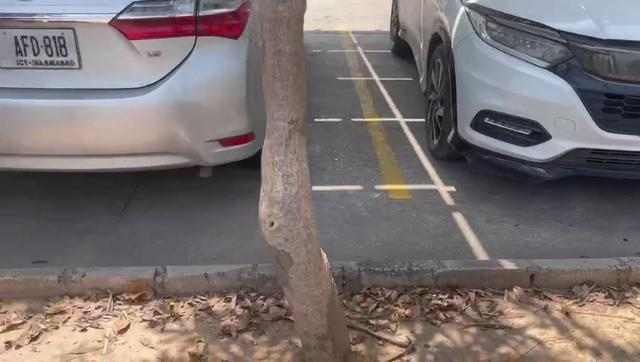plate: (0, 29, 84, 71)
